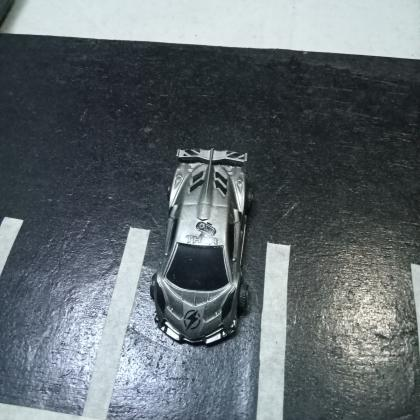Car: (148, 144, 255, 346)
